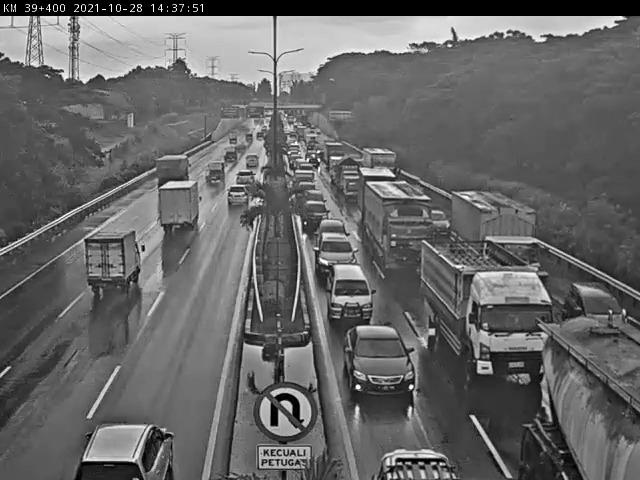big truck: (406, 228, 551, 382), (518, 312, 640, 480), (446, 180, 549, 300), (358, 180, 437, 272), (151, 155, 202, 190)
car: (335, 319, 425, 403), (73, 425, 190, 480), (369, 430, 471, 480), (319, 261, 384, 334), (553, 270, 621, 322), (310, 236, 365, 282), (317, 215, 355, 240), (222, 187, 250, 216), (233, 167, 260, 188), (239, 152, 264, 173)
small truck: (72, 227, 148, 305), (154, 179, 211, 236), (201, 162, 229, 187)
